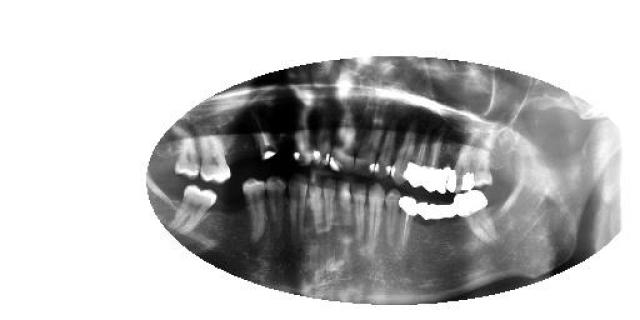Cavity: (248, 106, 278, 164)
Fillings: (455, 191, 499, 240), (447, 134, 482, 194), (422, 129, 447, 195), (404, 128, 431, 186), (433, 201, 458, 224), (418, 198, 432, 222)
Implant: (398, 194, 417, 251)
